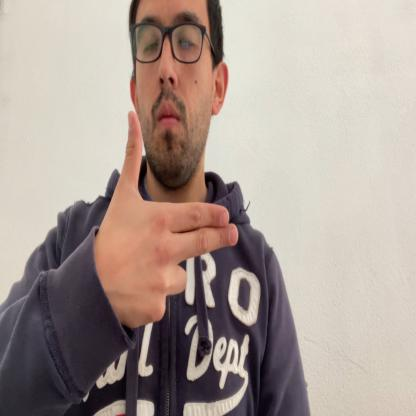H: (105, 107, 240, 330)
